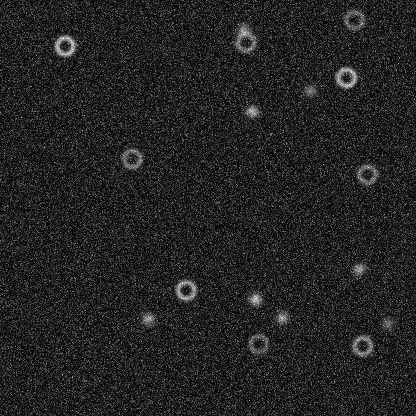Ring: (355, 162, 379, 186), (173, 278, 197, 302), (246, 331, 270, 355), (233, 30, 257, 54), (52, 33, 76, 57), (334, 65, 358, 89), (350, 333, 374, 357), (342, 7, 366, 31), (119, 146, 143, 170)
Spot: (235, 21, 251, 37), (301, 82, 317, 98), (247, 291, 263, 307), (379, 315, 395, 331), (273, 309, 289, 325), (243, 103, 259, 119), (350, 261, 366, 277), (139, 310, 155, 326)
